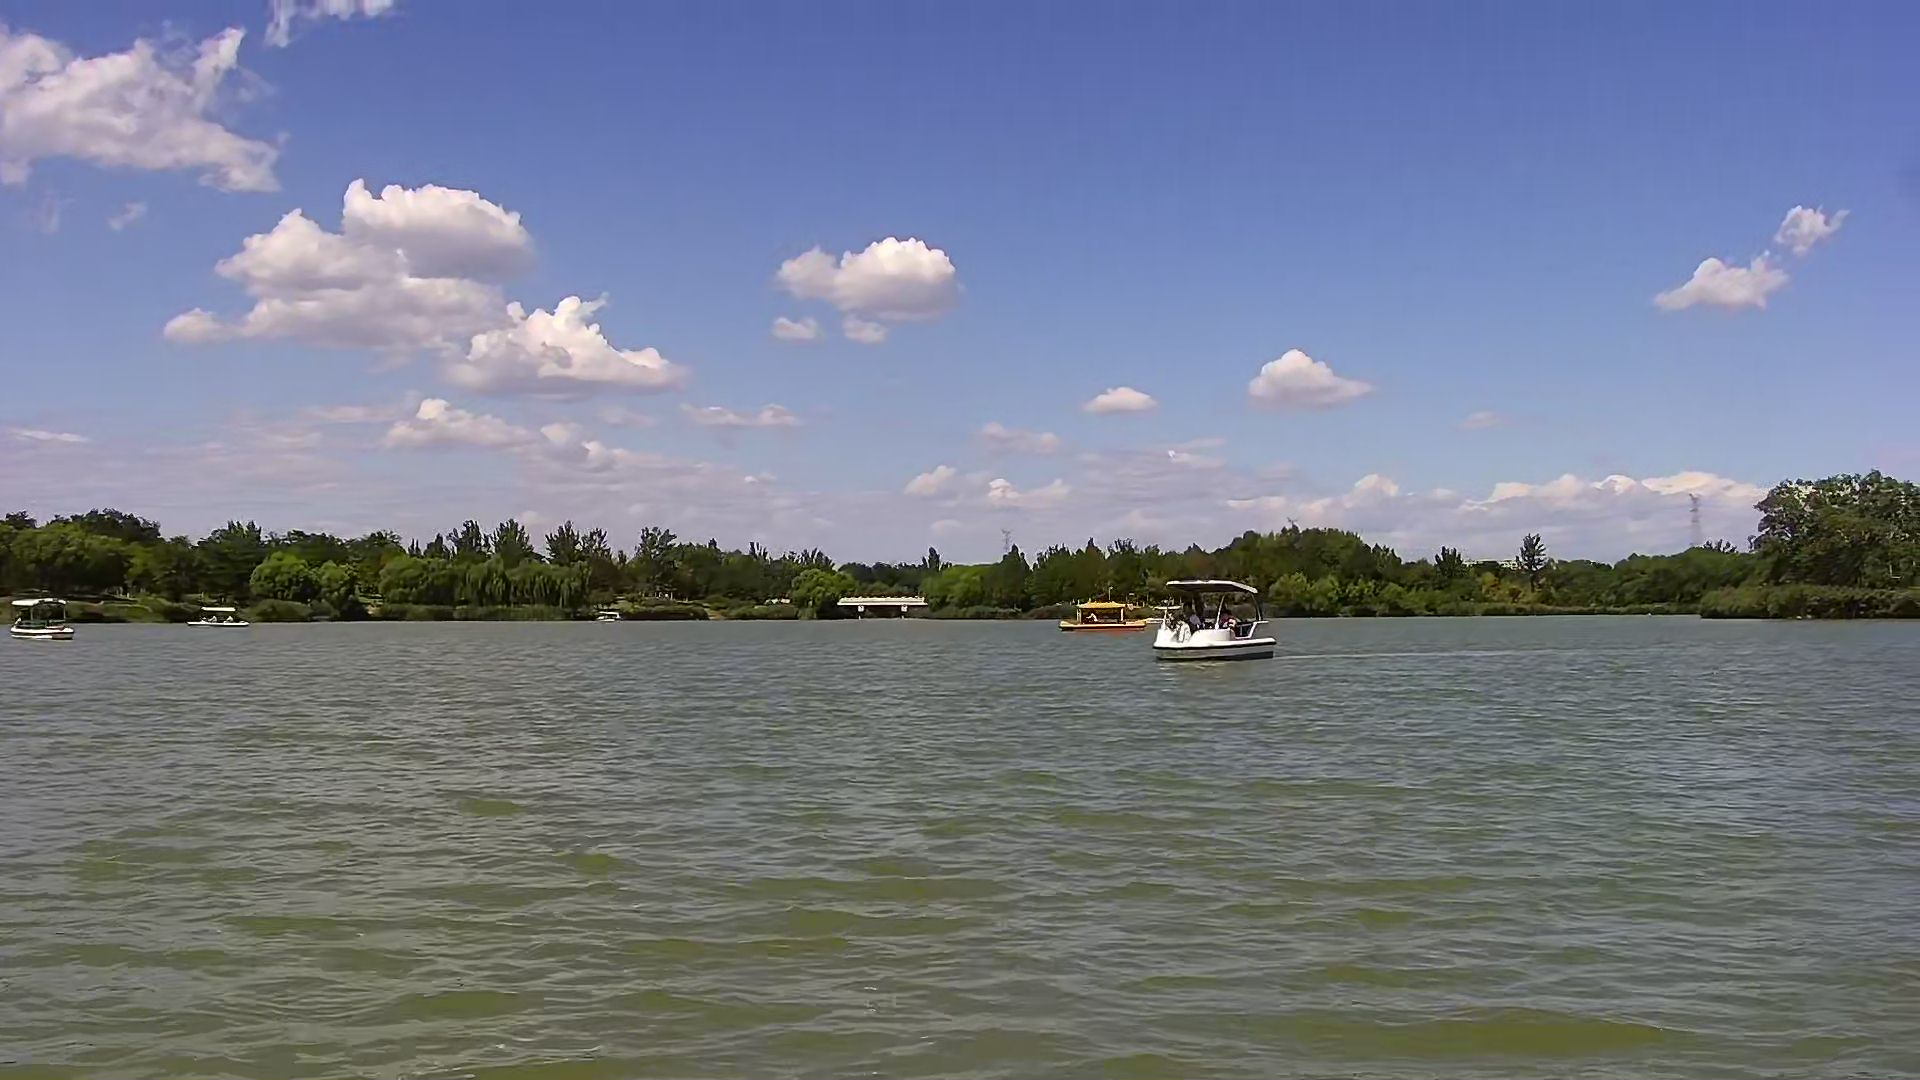boat: (1159, 576, 1270, 665), (12, 591, 70, 638), (1060, 601, 1149, 628), (189, 600, 247, 622)
bridge: (837, 593, 922, 617)
